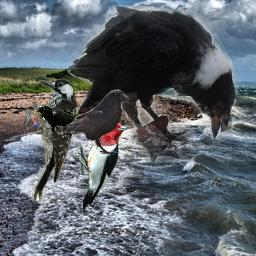Crow: (67, 5, 239, 163), (60, 89, 130, 154), (32, 105, 84, 135)
Woodpecker: (24, 79, 78, 202), (73, 122, 132, 216)
